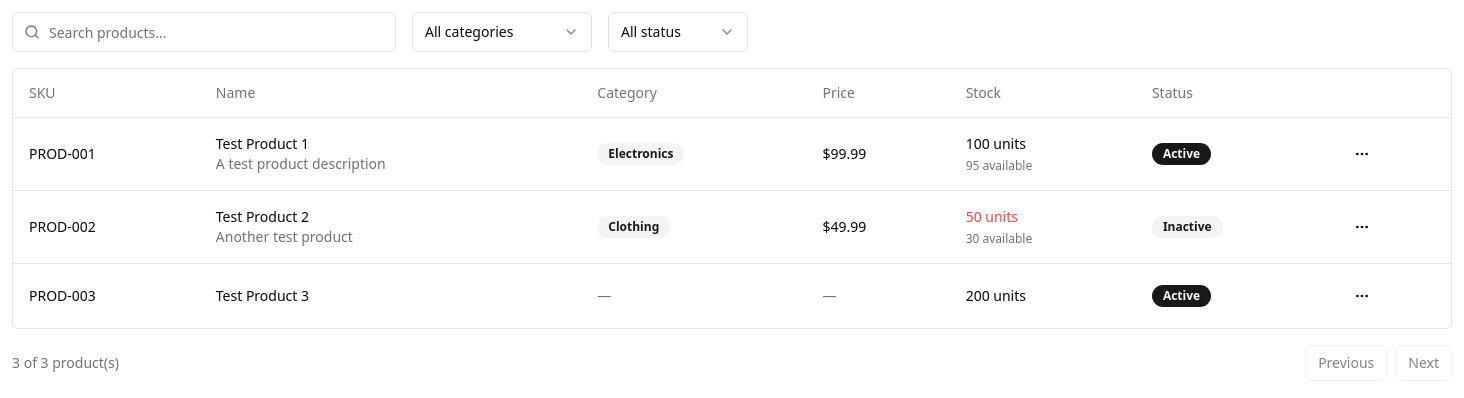
Test case: ProductsTable › Search Functionality › should filter products by name
Type "Test Product 1" into the field with placeholder "Search products...". click: (204, 32)
box: left=12, top=12, right=396, bottom=52
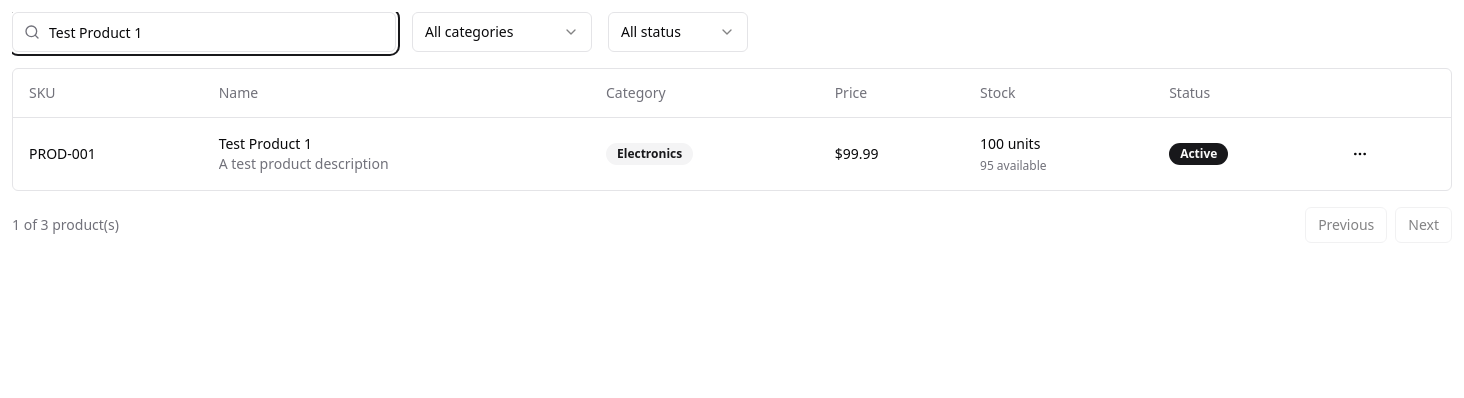
Expected: the text "Test Product 1" is shown, left=219, top=134, right=312, bottom=152
Expected: the text "Test Product 2" is gone
Expected: the text "Test Product 3" is gone
